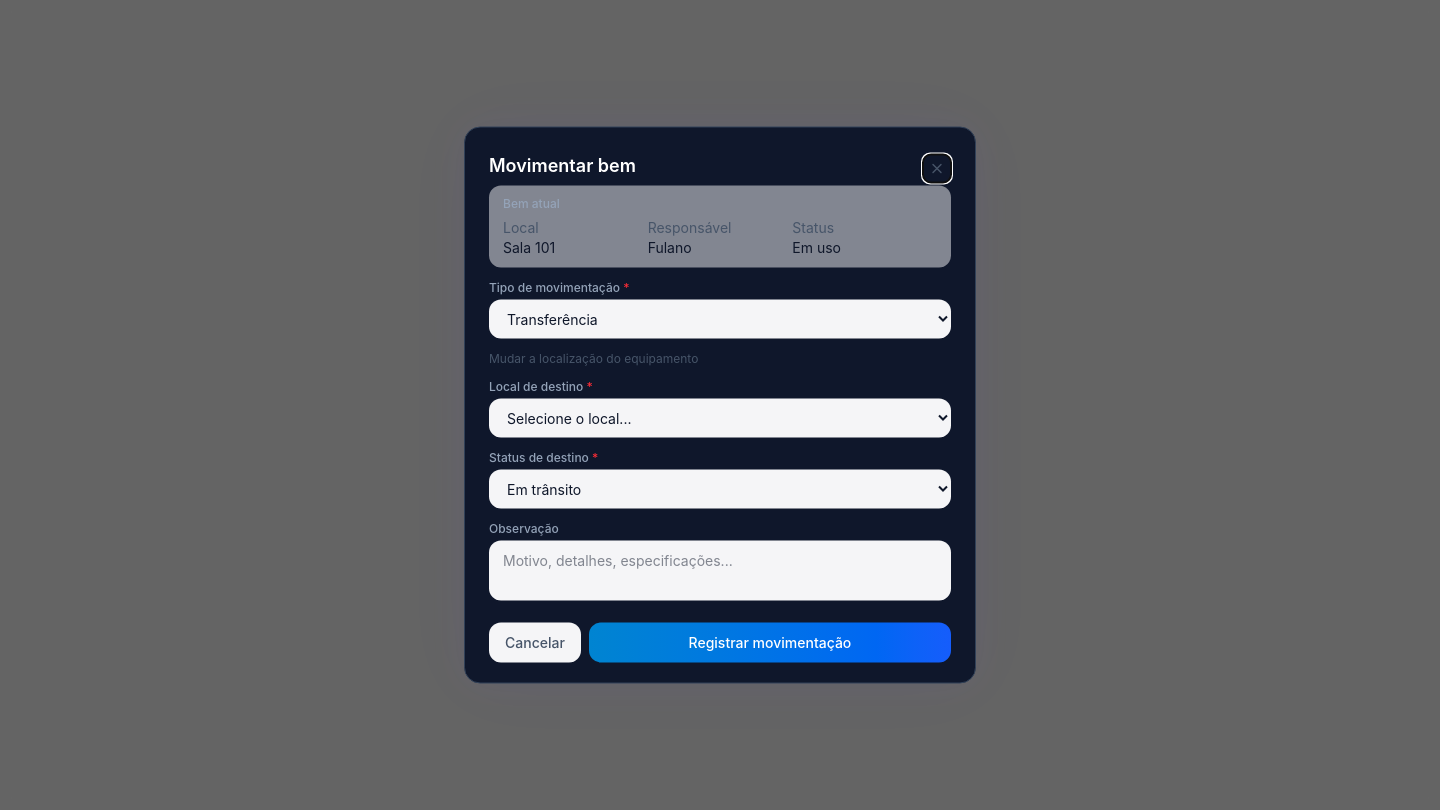
Scenario: MovementFormModal › validação: origem e destino iguais na transferência
Select "Transferência" in the dropdown named "Tipo de movimentação" at point(720, 319), box [489,300,951,338]
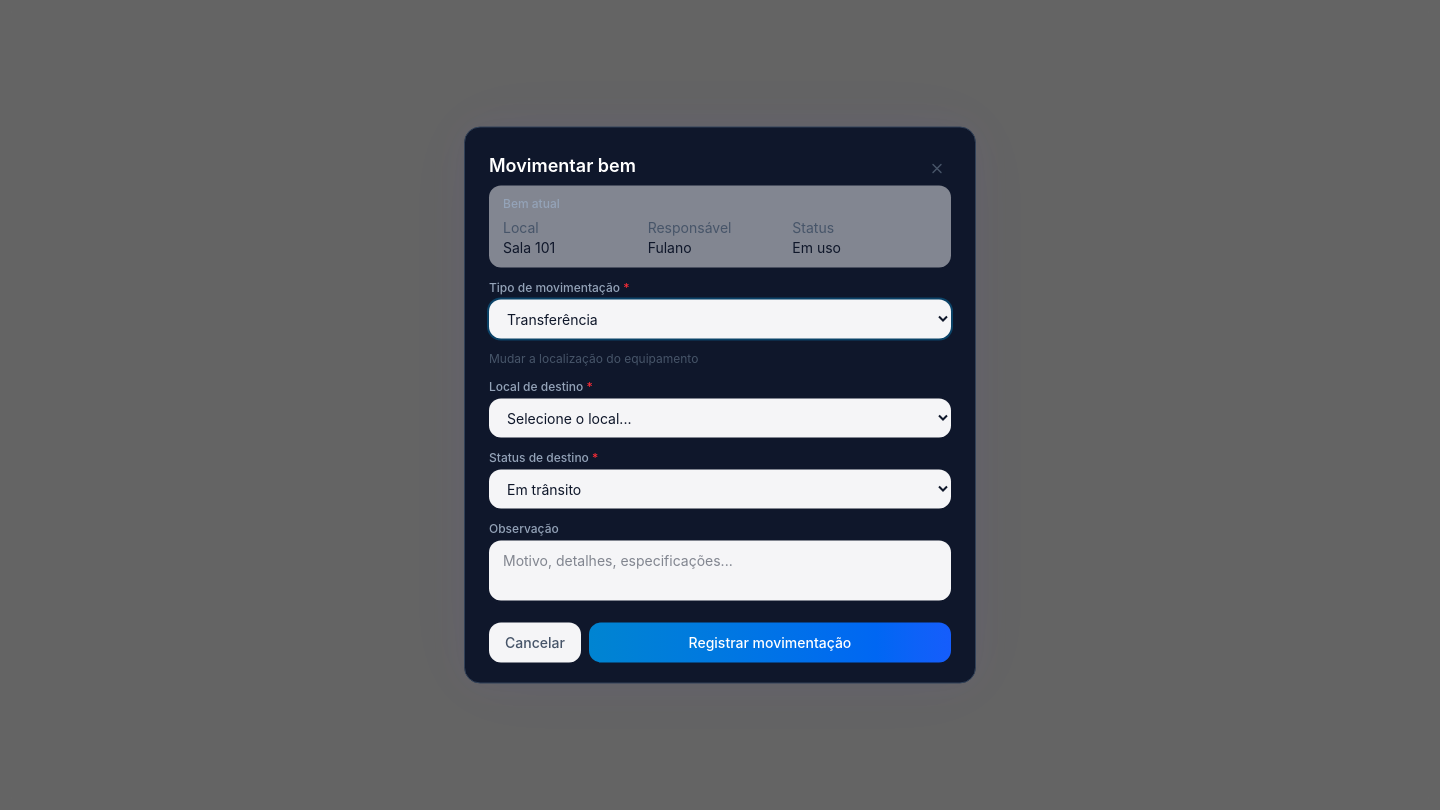
Select "Sala 101" in the dropdown named "Local de destino" at point(720, 418), box [489,398,951,438]
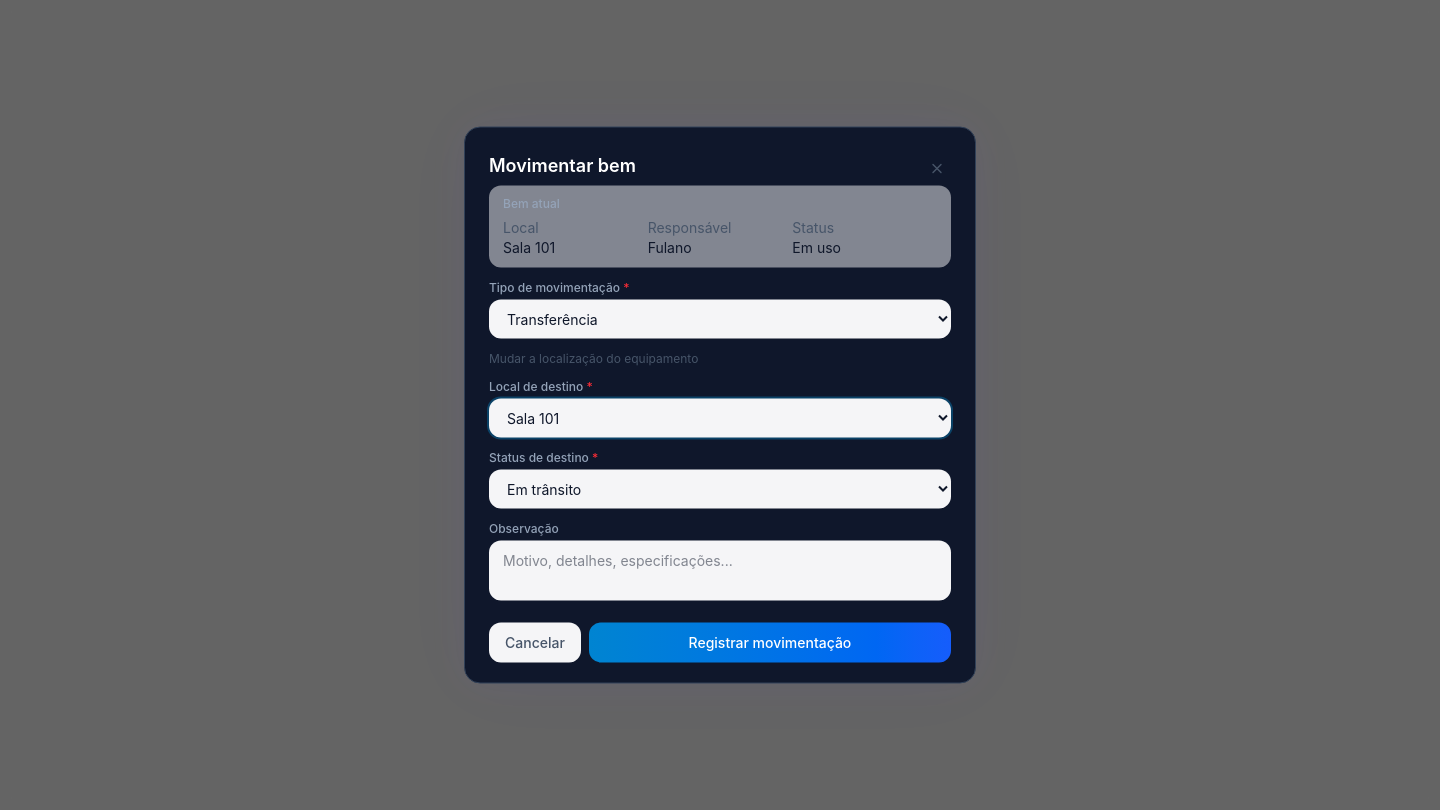
Click the button "Registrar movimentação" at point(770, 642), box [589,622,951,662]
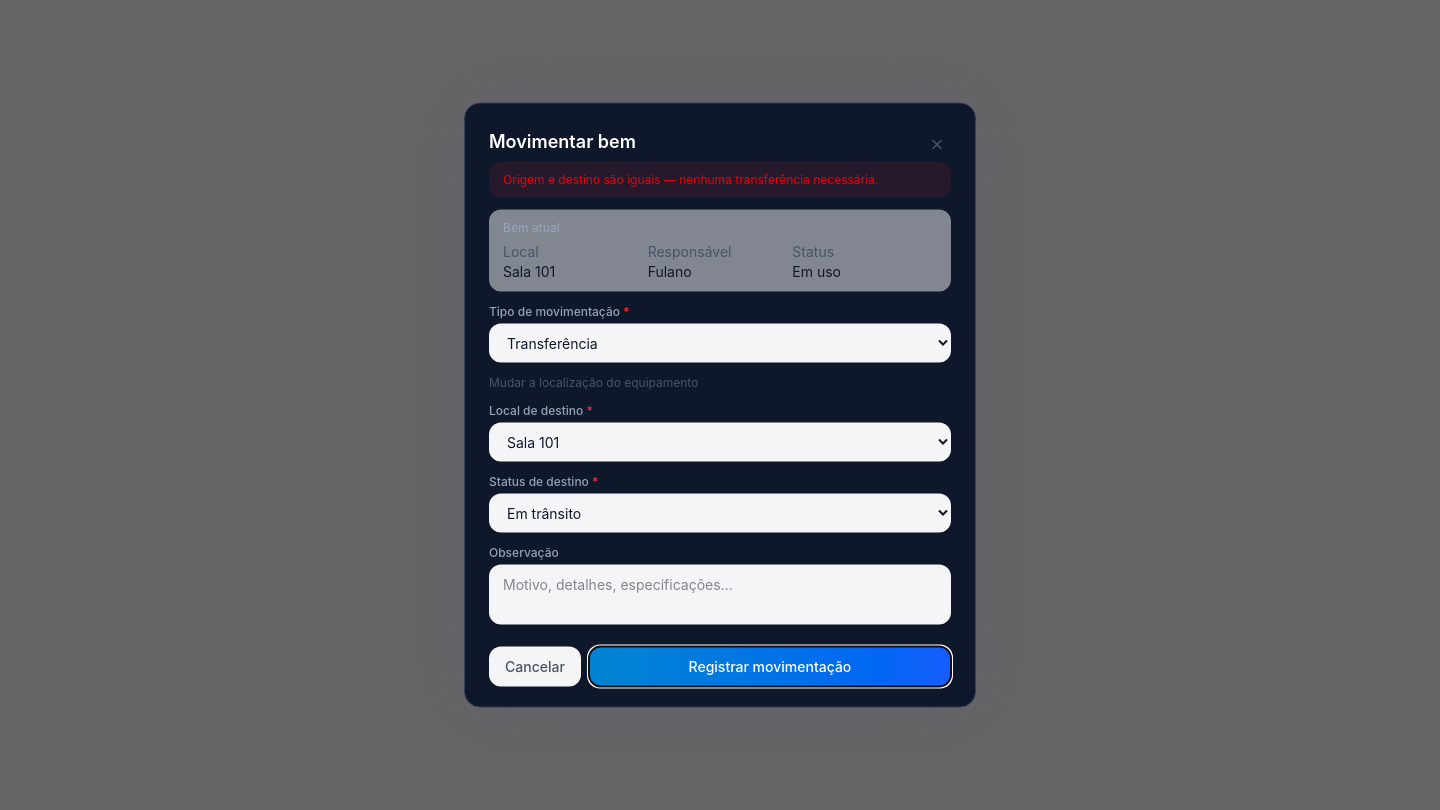
Expected: the text "Origem e destino são iguais — nenhuma transferência necessária." is shown, [489,162,951,198]
